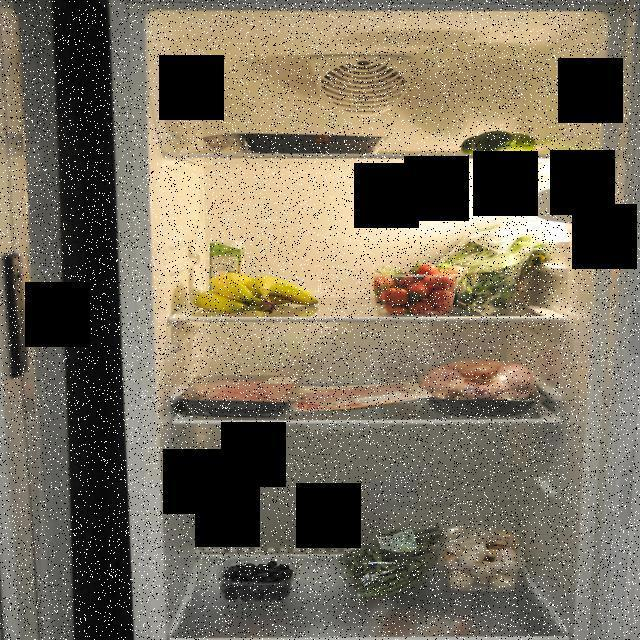banana: (188, 270, 320, 316)
blueberries: (219, 556, 297, 602)
chicken: (414, 356, 548, 416)
green_beans: (338, 516, 446, 602)
ground_beef: (192, 374, 296, 414)
ham: (299, 383, 407, 415)
heavy_cream: (208, 238, 246, 294)
lime: (458, 128, 540, 156)
mushrooms: (440, 526, 530, 594)
spinach: (433, 220, 556, 316)
strawberries: (369, 260, 462, 316)
